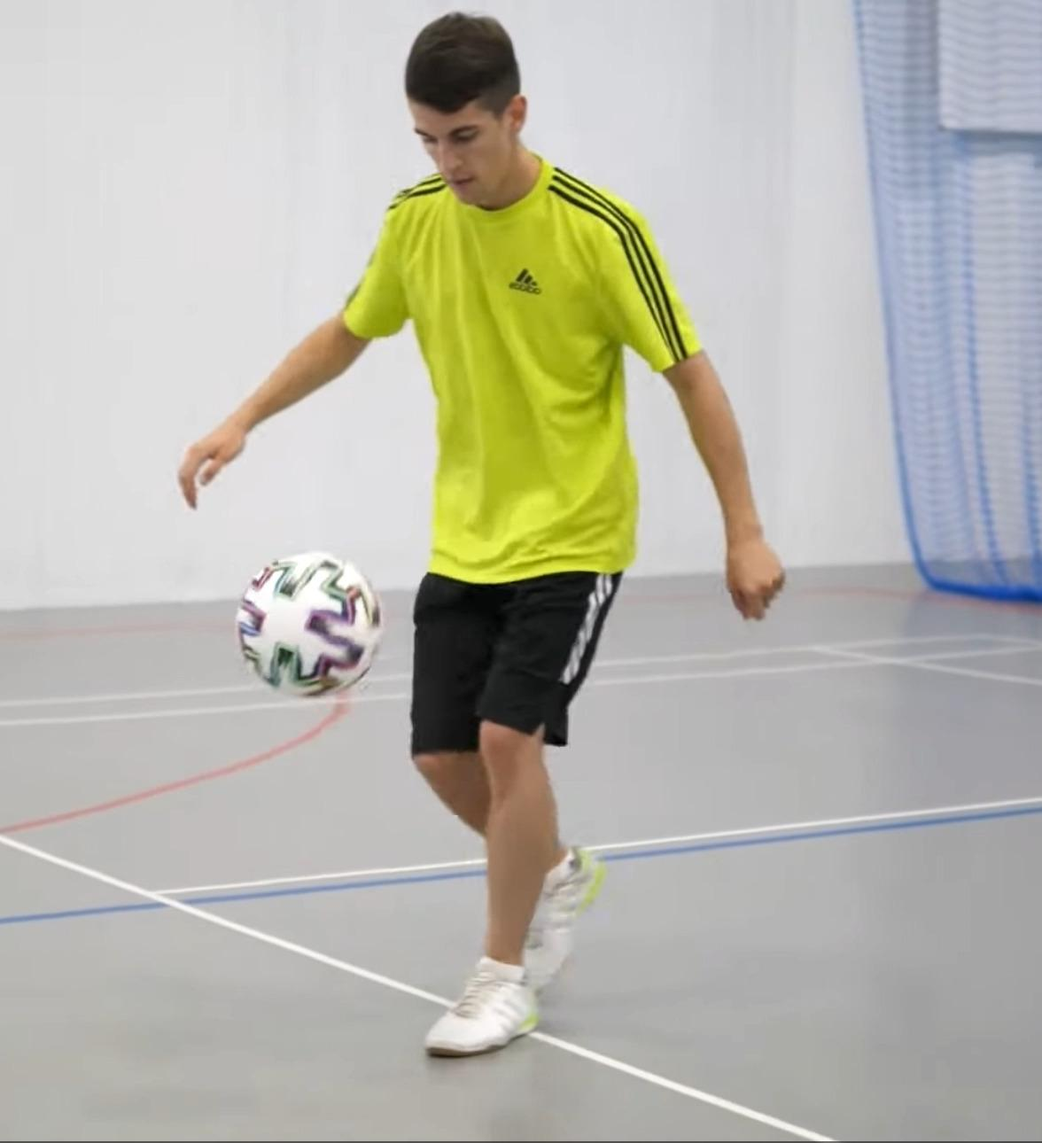ball: (236, 552, 379, 695)
foot: (516, 837, 605, 993), (426, 952, 545, 1057)
person: (180, 11, 784, 1056)
